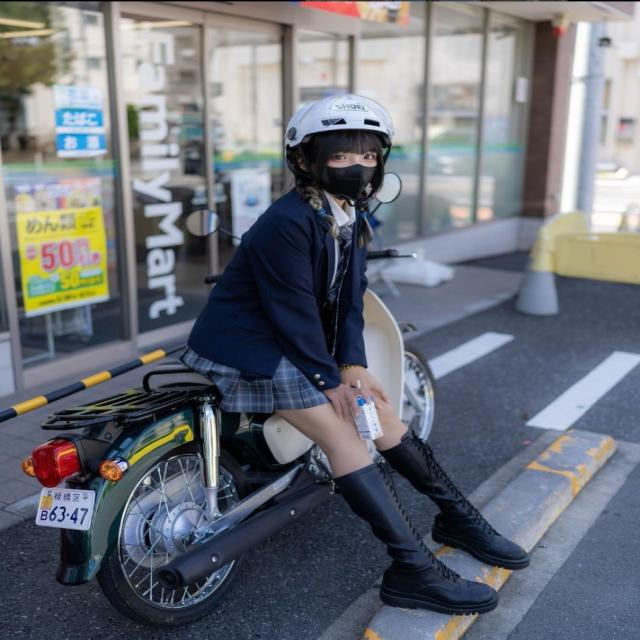helmet: (278, 92, 396, 210)
